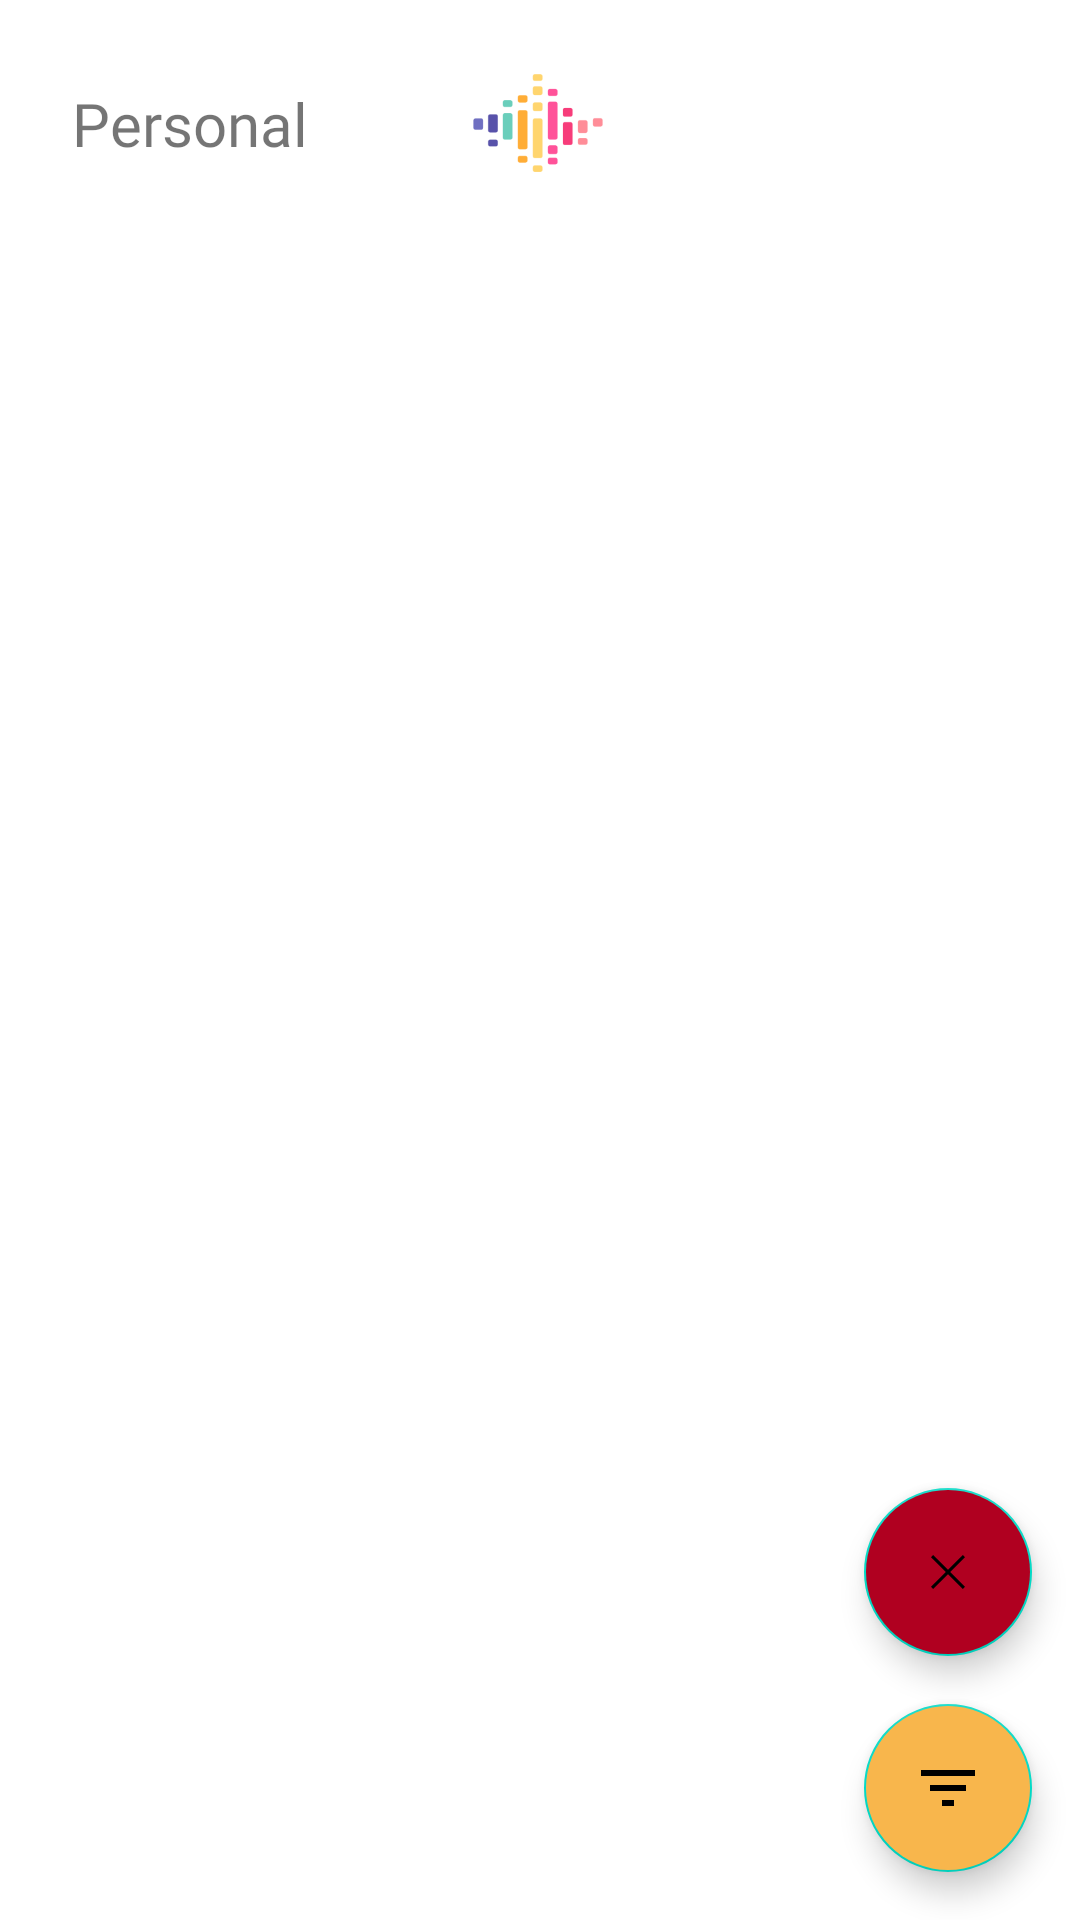

Icon bounding boxes for this 1080 x 1920 phone screenshot, format (x1,y1,x2,y2):
close: (864,1488,1032,1656)
filter list: (864,1704,1032,1872)
